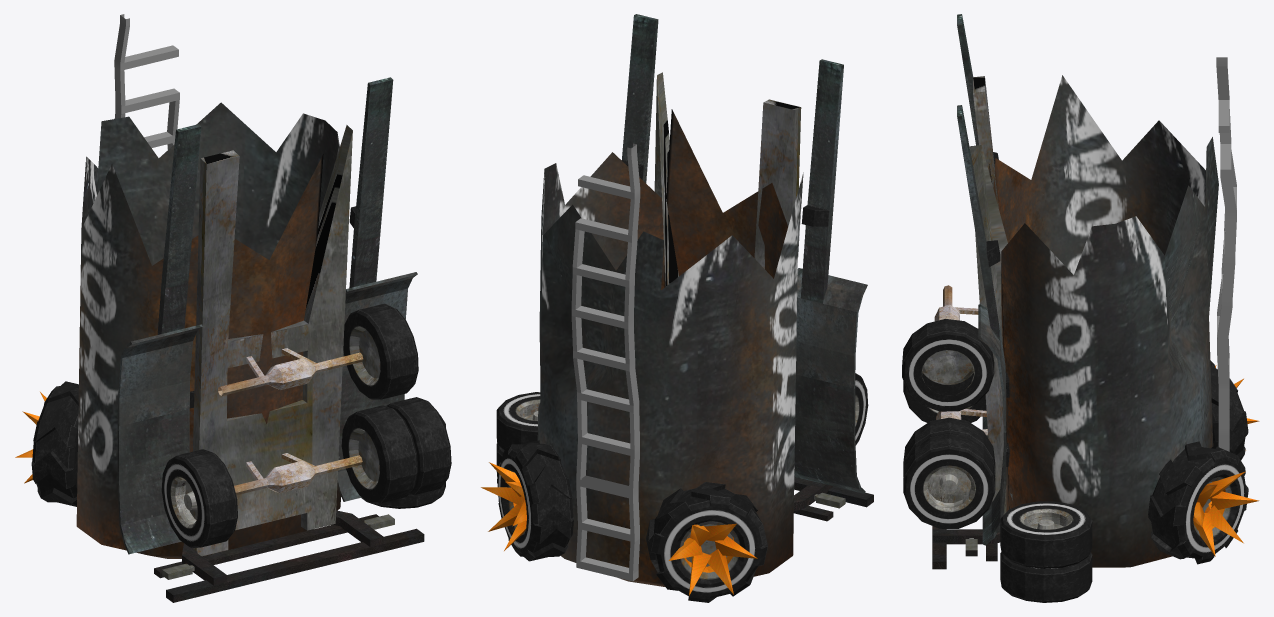
Rendered from destroyd_tower.FBX.
3 renders of one model, left to right at view 1: azimuth 30°, elevation 25°; view 2: azimuth 150°, elevation 25°; view 3: azimuth 270°, elevation 25°, orthographic. The views are drawn at different scales.
Visible parts, largest first — view 1: tower020, tower019, tower021, tower027, tower017, tower018; view 2: tower019, tower020, tower017, tower027, tower028, tower021, tower018; view 3: tower019, tower021, tower020, tower028, tower018, tower017, tower027.
Part boxes in pixels (<box>): tower020: <box>117,77,417,556</box>; tower019: <box>76,102,341,558</box>; tower021: <box>154,303,451,602</box>; tower027: <box>15,381,78,506</box>; tower017: <box>114,14,179,149</box>; tower018: <box>361,414,445,508</box>; tower019: <box>537,109,803,586</box>; tower020: <box>621,14,867,493</box>; tower017: <box>571,143,640,581</box>; tower027: <box>646,482,767,602</box>; tower028: <box>481,440,573,561</box>; tower021: <box>793,373,873,521</box>; tower018: <box>496,392,540,476</box>; tower019: <box>989,75,1218,567</box>; tower021: <box>902,285,1000,569</box>; tower020: <box>957,14,1009,545</box>; tower028: <box>1148,441,1259,564</box>; tower018: <box>1000,501,1092,602</box>; tower017: <box>1216,57,1236,451</box>; tower027: <box>1210,360,1259,460</box>.
Bounding box in the file's own units: 125 × 170 × 115.
